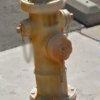Hydrant: (13, 0, 82, 96)
